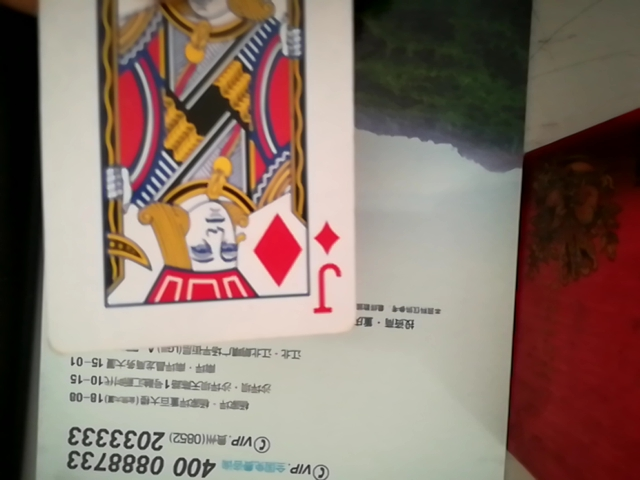fk j: (38, 0, 365, 350)
